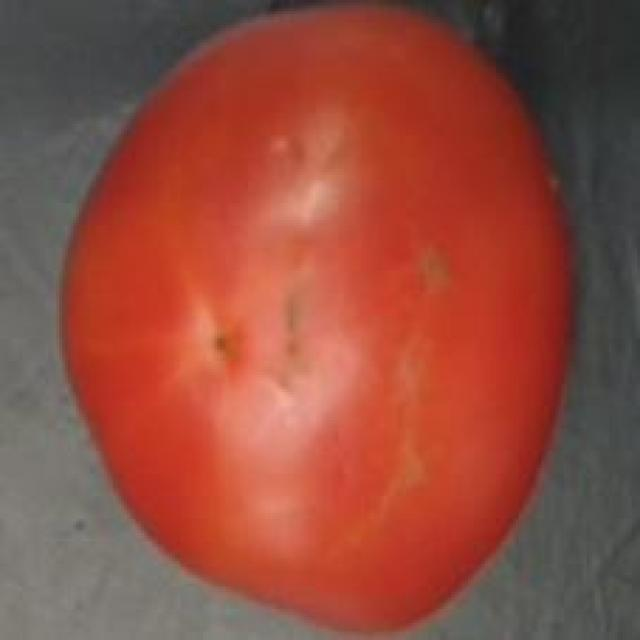overripe tomato: (48, 0, 600, 640)
